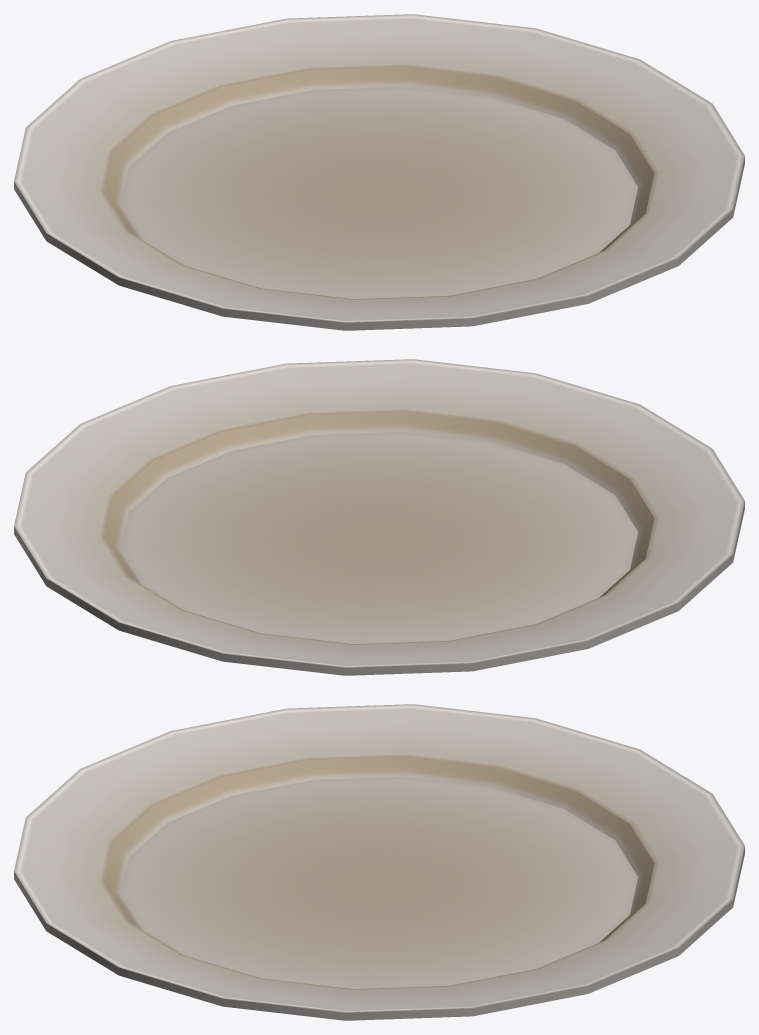
The model's file is jia_panzi.FBX.
3 renders of one model, top to bottom at view 1: azimuth 30°, elevation 25°; view 2: azimuth 150°, elevation 25°; view 3: azimuth 270°, elevation 25°, orthographic.
Parts seen in each view (by area): view 1: jia_panzi; view 2: jia_panzi; view 3: jia_panzi.
Part boxes in pixels (x1=…): jia_panzi: x1=14, y1=14, x2=744, y2=330; jia_panzi: x1=14, y1=359, x2=744, y2=675; jia_panzi: x1=14, y1=704, x2=744, y2=1020.
Size of the model in its own units: 39.83 by 1.91 by 39.87.
